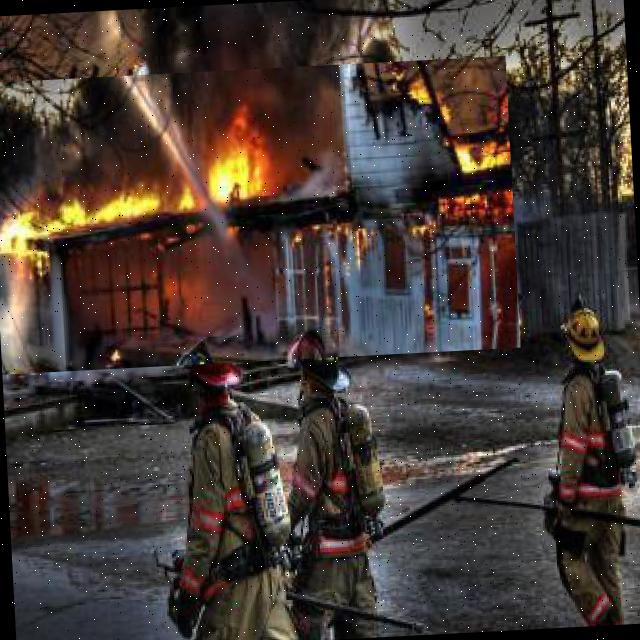fire: (0, 56, 521, 375)
